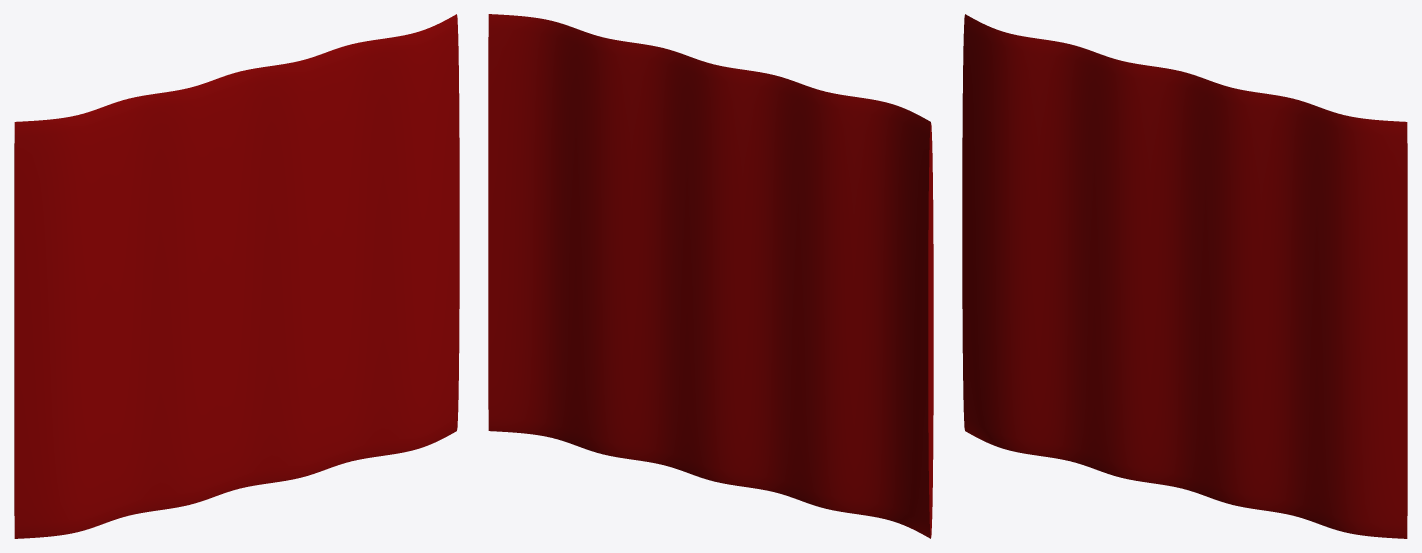
File: curtain.fbx
3 renders of one model, left to right at view 1: azimuth 30°, elevation 25°; view 2: azimuth 150°, elevation 25°; view 3: azimuth 330°, elevation 25°, orthographic.
Visible parts, largest first — view 1: Plane; view 2: Plane; view 3: Plane.
Part boxes in pixels (bbox=[...]): Plane: bbox=[14, 14, 459, 538]; Plane: bbox=[488, 14, 933, 538]; Plane: bbox=[962, 14, 1407, 538].
Bounding box in the file's own units: 832 × 39.28 × 746.
